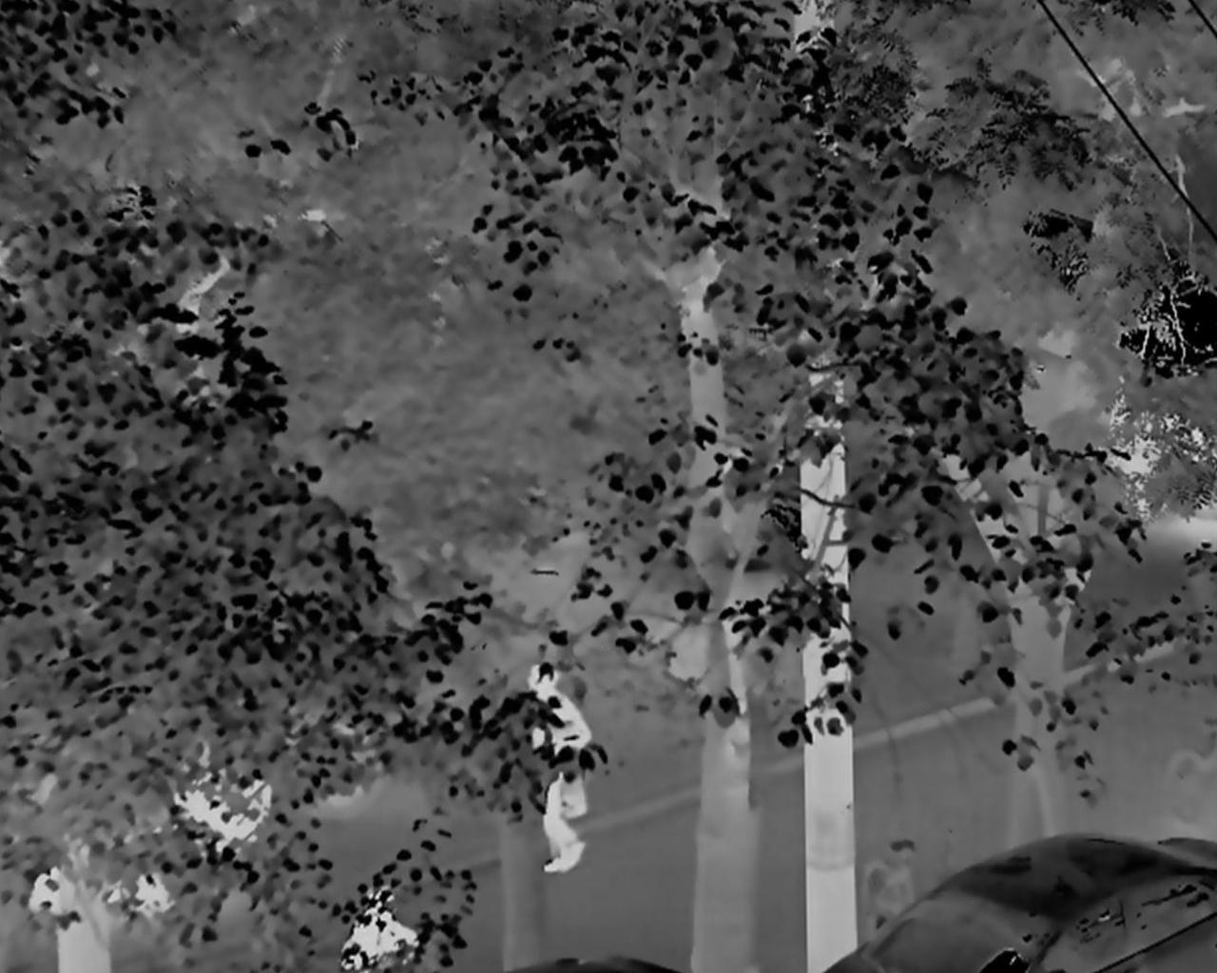person: (522, 658, 591, 880)
